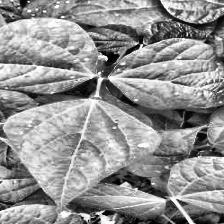Bean Rust: (0, 96, 159, 202), (0, 17, 103, 89), (22, 0, 116, 14)
